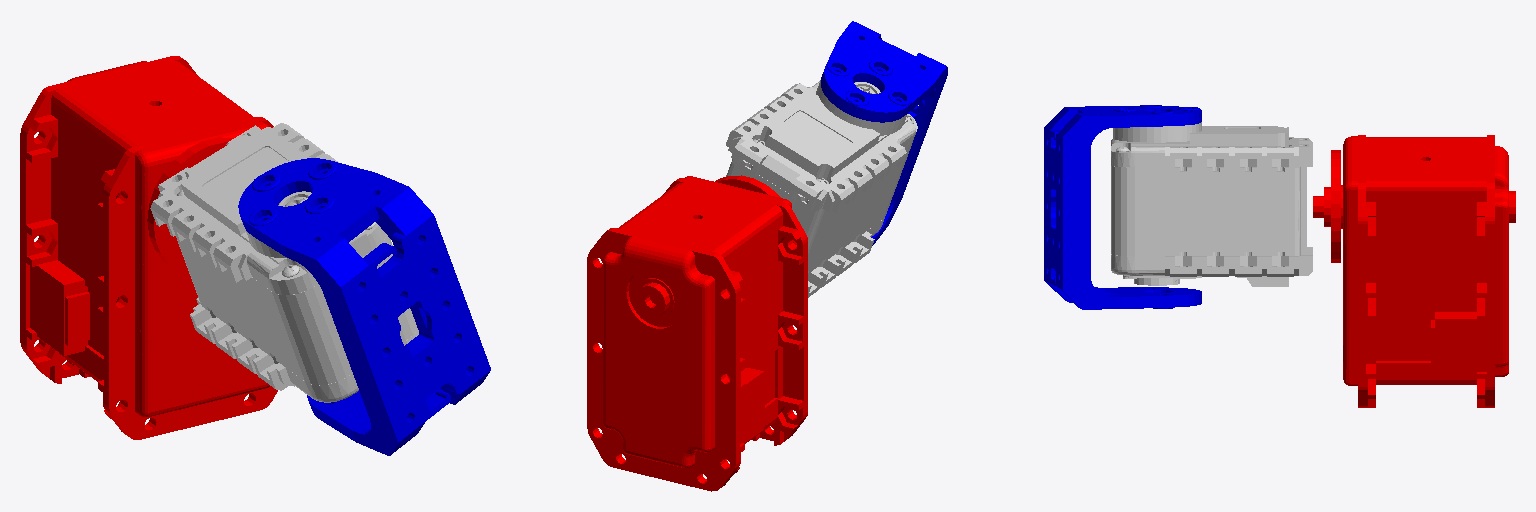
The robot description file, URDF, robot "TestGazebo":
<robot
  name="TestGazebo">

  <link name="world"/>

  <joint name="fixed" type="fixed">
    <parent link="world"/>
    <child link="M64"/>
  </joint>

  <link
    name="M64">
    <inertial>
      <origin
        xyz="0 0.00036546 0.03152"
        rpy="0 0 0" />
      <mass
        value="0.0001194" />
      <inertia
        ixx="5.7572E-08"
        ixy="4.9537E-24"
        ixz="-2.1309E-24"
        iyy="5.474E-08"
        iyz="-7.6125E-10"
        izz="3.4629E-08" />
    </inertial>
    <visual>
      <origin
        xyz="0 0 0"
        rpy="0 0 0" />
      <geometry>
        <mesh
          filename="package://TestGazebo/meshes/M64.STL" />
      </geometry>
      <material
        name="">
        <color
          rgba="1 0 0 0.1" />
      </material>
    </visual>
    <collision>
      <origin
        xyz="0 0 0"
        rpy="0 0 0" />
      <geometry>
        <mesh
          filename="package://TestGazebo/meshes/M64_collision.STL" />
      </geometry>
    </collision>
  </link>
  <link
    name="A12">
    <inertial>
      <origin
        xyz="-0.00042674 -0.00015143 0.0254"
        rpy="0 0 0" />
      <mass
        value="6.9873E-05" />
      <inertia
        ixx="2.3199E-08"
        ixy="-6.6291E-10"
        ixz="1.1553E-23"
        iyy="2.1566E-08"
        iyz="-3.1637E-23"
        izz="1.4713E-08" />
    </inertial>
    <visual>
      <origin
        xyz="0 0 0"
        rpy="0 0 0" />
      <geometry>
        <mesh
          filename="package://TestGazebo/meshes/A12.STL" />
      </geometry>
      <material
        name="">
        <color
          rgba="0.84314 0.84314 0.84314 0.1" />
      </material>
    </visual>
    <collision>
      <origin
        xyz="0 0 0"
        rpy="0 0 0" />
      <geometry>
        <mesh
          filename="package://TestGazebo/meshes/A12_collision.STL" />
      </geometry>
    </collision>
  </link>
  <joint
    name="R1"
    type="continuous">
    <origin
      xyz="0 -0.028 0.0481"
      rpy="1.5708 0 0" />
    <parent
      link="M64" />
    <child
      link="A12" />
    <axis
      xyz="0 0 -1" />
    <dynamics damping="0.00000001" />

  </joint>
  <link
    name="Frame">
    <inertial>
      <origin
        xyz="0.010668 0.015372 0.021681"
        rpy="0 0 0" />
      <mass
        value="1.5563E-05" />
      <inertia
        ixx="6.1558E-09"
        ixy="1.4193E-10"
        ixz="1.3063E-09"
        iyy="5.8209E-09"
        iyz="-5.0367E-11"
        izz="2.9381E-09" />
    </inertial>
    <visual>
      <origin
        xyz="0 0 0"
        rpy="0 0 0" />
      <geometry>
        <mesh
          filename="package://TestGazebo/meshes/Frame.STL" />
      </geometry>
      <material
        name="">
        <color
          rgba="0 0 1 0.1" />
      </material>
    </visual>
    <collision>
      <origin
        xyz="0 0 0"
        rpy="0 0 0" />
      <geometry>
        <mesh
          filename="package://TestGazebo/meshes/Frame_collision.STL" />
      </geometry>
    </collision>
  </link>
  <joint
    name="R2"
    type="continuous">
    <origin
      xyz="-0.0080263 0.022618 0.0385"
      rpy="1.5708 0 0" />
    <parent
      link="A12" />
    <child
      link="Frame" />
    <axis
      xyz="0 0 1" />
    <dynamics damping="0.00000001" />
  </joint>

  <transmission name="tran1">
    <type>transmission_interface/SimpleTransmission</type>
    <joint name="R1">
      <hardwareInterface>EffortJointInterface</hardwareInterface>
    </joint>
    <actuator name="M64">
      <hardwareInterface>EffortJointInterface</hardwareInterface>
      <mechanicalReduction>1</mechanicalReduction>
    </actuator>
  </transmission>

  <transmission name="tran2">
    <type>transmission_interface/SimpleTransmission</type>
    <joint name="R2">
      <hardwareInterface>EffortJointInterface</hardwareInterface>
    </joint>
    <actuator name="A12">
      <hardwareInterface>EffortJointInterface</hardwareInterface>
      <mechanicalReduction>1</mechanicalReduction>
    </actuator>
  </transmission>


</robot>

--- Render facts (derived) ---
The picture shows the robot from 3 angles, left to right: view 1: azimuth 30°, elevation 25°; view 2: azimuth 150°, elevation 25°; view 3: azimuth 270°, elevation 25°; orthographic projection.
Model TestGazebo with 4 links and 3 joints (2 continuous, 1 fixed), rooted at world, posed all joints at 0.
Links seen in each view (by area): view 1: M64, Frame, A12; view 2: M64, A12, Frame; view 3: M64, A12, Frame.
Link boxes in pixels (x1,y1,x2,y2): M64: (20,56,277,439); Frame: (238,158,490,455); A12: (150,123,418,402); M64: (587,175,807,491); A12: (726,80,917,297); Frame: (821,21,947,245); M64: (1313,135,1515,407); A12: (1111,122,1312,286); Frame: (1044,105,1201,309).
Bounding box of the posed robot: 0.0433 × 0.1163 × 0.0761 m (x, y, z).
Meshes: 3 distinct files referenced, 3 mesh visuals loaded (3 binary STL).